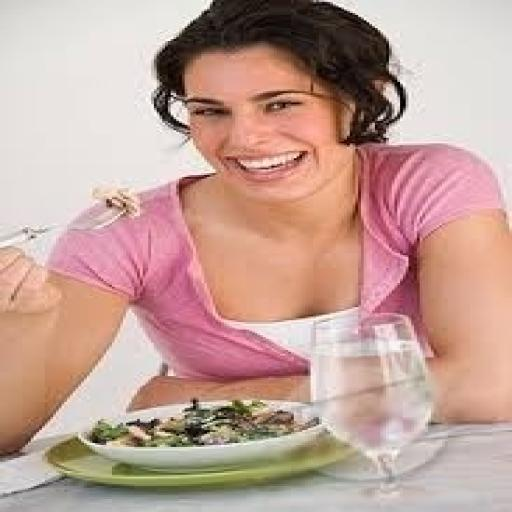laughing: (3, 2, 506, 462)
